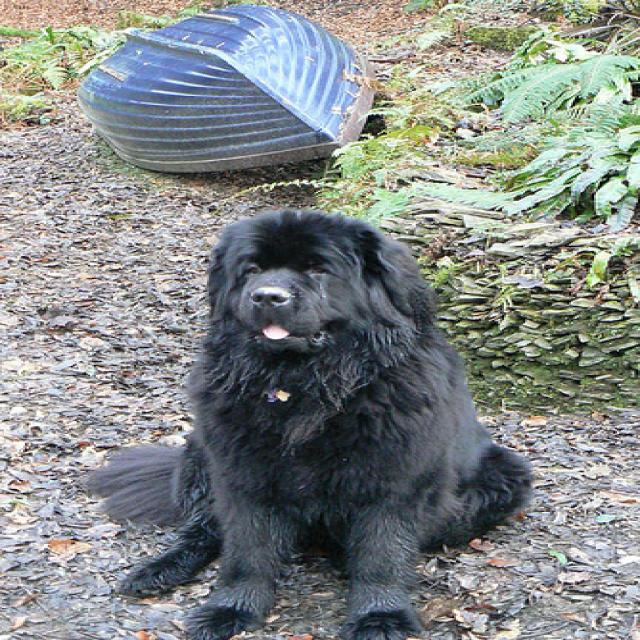dog-newfoundland: (75, 200, 558, 637)
